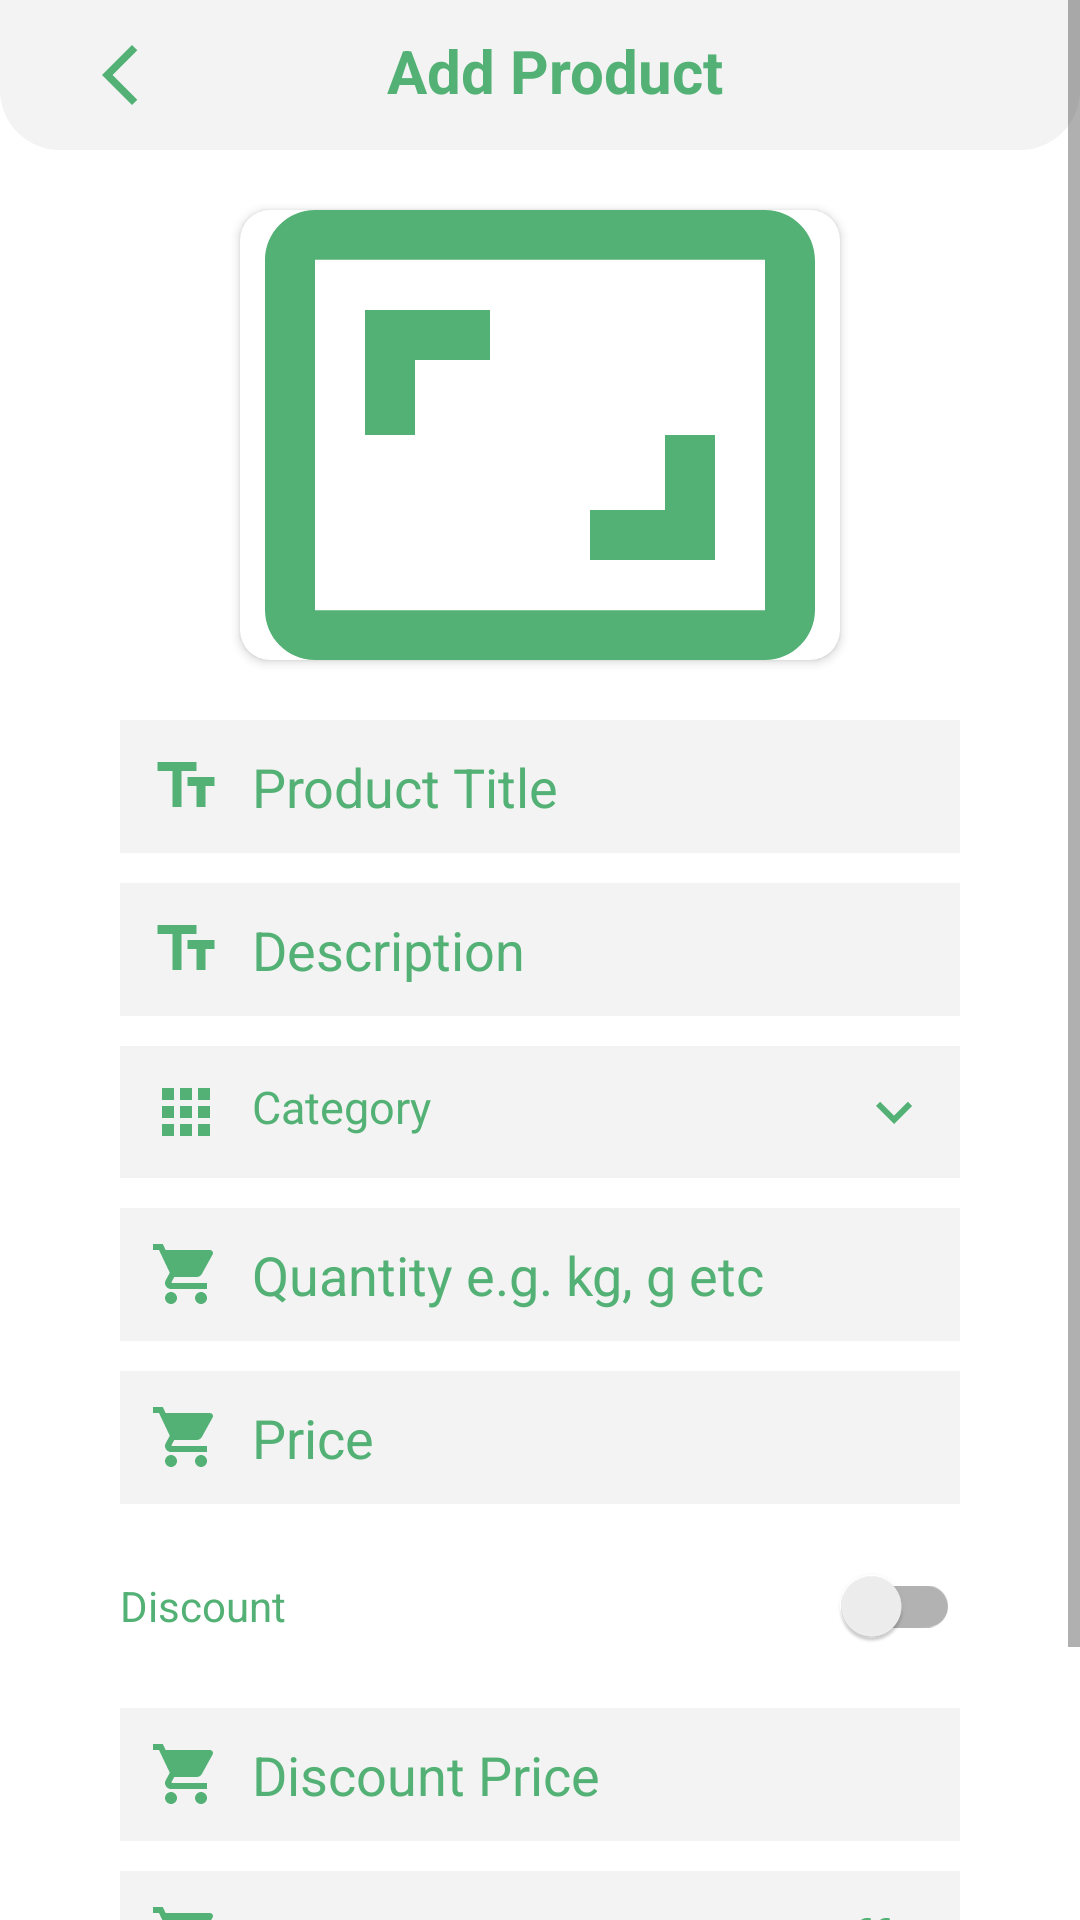

Named icons in this screenshot (1080x1920) and their bounding boxes, {"left": x1, "top": y1, "right": x2, "bottom": y2}:
back: {"left": 102, "top": 45, "right": 137, "bottom": 105}
